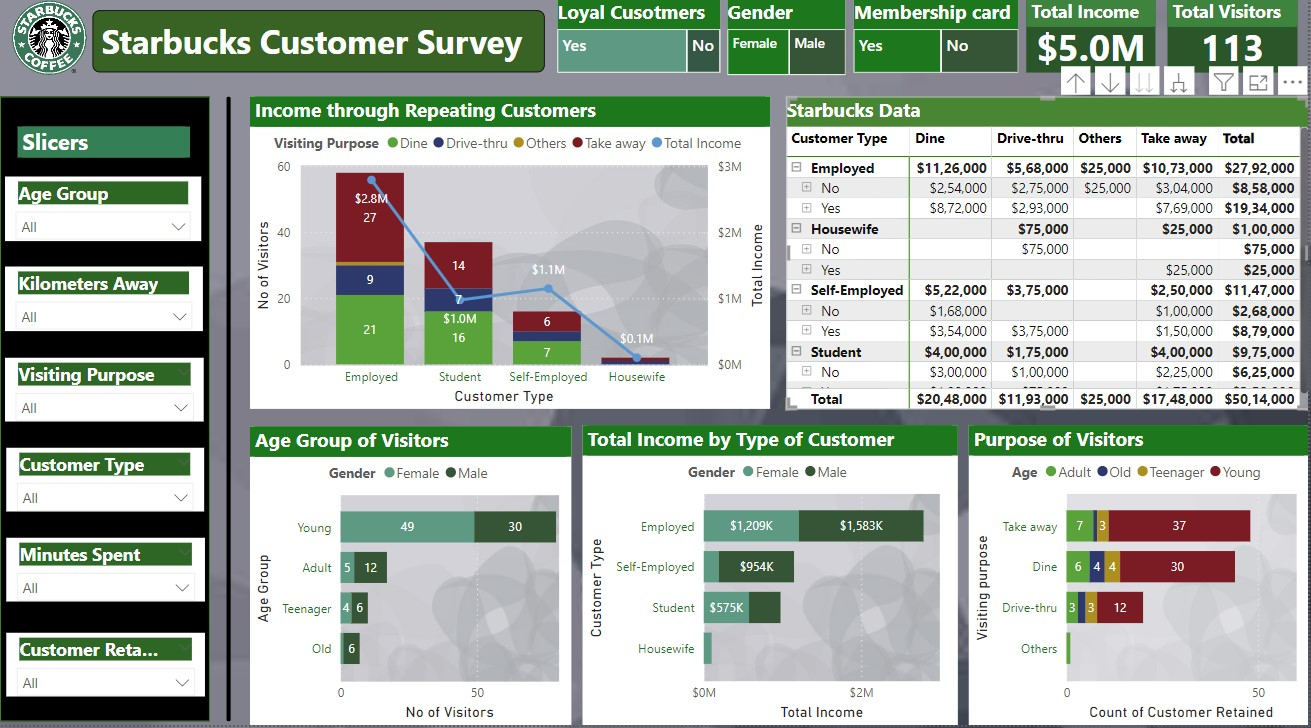

Layout of this report page (visuals, bound fields, positions):
{"tool":"powerbi","page":{"name":"Page 1","canvas":[1280,720],"ordinal":0},"visuals":[{"type":"shape","box":[0,105.2,205.4,611.4],"z":500},{"type":"textbox","box":[90.5,20.8,442.7,61.1],"z":1000},{"type":"image","box":[6.1,0,84.4,95.4],"z":2000},{"type":"treemap","title":" Gender","fields":{"Group":["Starbucks satisfactory survey e.Gender"],"Values":["CountNonNull(Starbucks satisfactory survey e.Gender)"]},"box":[711.1,10,115.6,74.4],"z":3000},{"type":"barChart","title":"Age Group of Visitors","fields":{"Y":["CountNonNull(Starbucks satisfactory survey e.visitNo)"],"Category":["Starbucks satisfactory survey e.age"],"Series":["Starbucks satisfactory survey e.Gender"]},"box":[244.6,428,314.3,292.3],"z":4000},{"type":"card","title":"Total Income","fields":{"Values":["Starbucks satisfactory survey e.Total Income"]},"box":[1004.4,10,126.7,72.2],"z":5000},{"type":"treemap","title":"Membership card","fields":{"Group":["Starbucks satisfactory survey e.membershipCard"],"Values":["CountNonNull(Starbucks satisfactory survey e.membershipCard)"]},"box":[835.6,10,161.1,72.2],"z":6000},{"type":"barChart","title":"Total Income by Type of Customer ","fields":{"Category":["Starbucks satisfactory survey e.status"],"Y":["Starbucks satisfactory survey e.Total Income"],"Series":["Starbucks satisfactory survey e.Gender"]},"box":[569.8,426.5,366.8,293.5],"z":7000},{"type":"barChart","title":"Purpose of Visitors","fields":{"Category":["Starbucks satisfactory survey e.method"],"Y":["CountNonNull(Starbucks satisfactory survey e.visitNo)"],"Series":["Starbucks satisfactory survey e.age"]},"box":[947.7,426.8,332.6,293.5],"z":8000},{"type":"card","title":"Total Visitors","fields":{"Values":["Starbucks satisfactory survey e.Total Visitors"]},"box":[1142.1,9.8,127.2,72.1],"z":9000},{"type":"treemap","title":" Loyal Cusotmers","fields":{"Group":["Starbucks satisfactory survey e.loyal"],"Values":["CountNonNull(Starbucks satisfactory survey e.loyal)"]},"box":[545.4,9.8,159,72.1],"z":10000},{"type":"pivotTable","title":"Starbucks Data","fields":{"Rows":["Starbucks satisfactory survey.Customer Type","Starbucks satisfactory survey.membershipCard","Starbucks satisfactory survey.Minutes Spent","Starbucks satisfactory survey.Age"],"Columns":["Starbucks satisfactory survey.Visiting purpose"],"Values":["Starbucks satisfactory survey.Total Income"]},"box":[769.2,105.2,511.1,305.7],"z":11000},{"type":"lineStackedColumnComboChart","title":"Income through Repeating Customers ","fields":{"Category":["Starbucks satisfactory survey e.status"],"Series":["Starbucks satisfactory survey e.method"],"Y":["CountNonNull(Starbucks satisfactory survey e.visitNo)"],"Y2":["Starbucks satisfactory survey e.Total Income"]},"box":[244.6,105.2,508.7,305.7],"z":12000},{"type":"slicer","fields":{"Values":["Starbucks satisfactory survey e.visitNo"]},"box":[6.1,629.8,194.4,62.4],"z":13000},{"type":"slicer","fields":{"Values":["Starbucks satisfactory survey e.method"]},"box":[4.9,360.7,194.4,62.4],"z":14000},{"type":"slicer","fields":{"Values":["Starbucks satisfactory survey e.status"]},"box":[6.1,448.8,193.2,62.4],"z":15000},{"type":"slicer","fields":{"Values":["Starbucks satisfactory survey e.timeSpend"]},"box":[6.1,536.8,194.4,62.4],"z":16000},{"type":"slicer","fields":{"Values":["Starbucks satisfactory survey e.age"]},"box":[4.9,183.4,192,63.6],"z":17000},{"type":"slicer","fields":{"Values":["Starbucks satisfactory survey e.location"]},"box":[4.9,271.5,193.2,63.6],"z":18000},{"type":"shape","box":[205.4,105.2,40.4,611.4],"z":19000},{"type":"textbox","title":"Slicers","box":[17.1,134.5,168.8,30.6],"z":20000}]}

Visuals, with their boxes in screenshot pixels (x1, y1, x2, y2), scaled from the page's 1280x720 canvas onto the 1311x728 screenshot:
shape: bbox(0, 106, 210, 725)
textbox: bbox(93, 21, 546, 83)
image: bbox(6, 0, 93, 96)
" Gender" treemap: bbox(728, 10, 847, 85)
"Age Group of Visitors" barChart: bbox(251, 433, 572, 727)
"Total Income" card: bbox(1029, 10, 1158, 83)
"Membership card" treemap: bbox(856, 10, 1021, 83)
"Total Income by Type of Customer " barChart: bbox(584, 431, 959, 727)
"Purpose of Visitors" barChart: bbox(971, 432, 1310, 727)
"Total Visitors" card: bbox(1170, 10, 1300, 83)
" Loyal Cusotmers" treemap: bbox(559, 10, 721, 83)
"Starbucks Data" pivotTable: bbox(788, 106, 1310, 415)
"Income through Repeating Customers " lineStackedColumnComboChart: bbox(251, 106, 772, 415)
slicer - Starbucks satisfactory survey e.visitNo: bbox(6, 637, 205, 700)
slicer - Starbucks satisfactory survey e.method: bbox(5, 365, 204, 428)
slicer - Starbucks satisfactory survey e.status: bbox(6, 454, 204, 517)
slicer - Starbucks satisfactory survey e.timeSpend: bbox(6, 543, 205, 606)
slicer - Starbucks satisfactory survey e.age: bbox(5, 185, 202, 250)
slicer - Starbucks satisfactory survey e.location: bbox(5, 275, 203, 339)
shape: bbox(210, 106, 252, 725)
"Slicers" textbox: bbox(18, 136, 190, 167)
